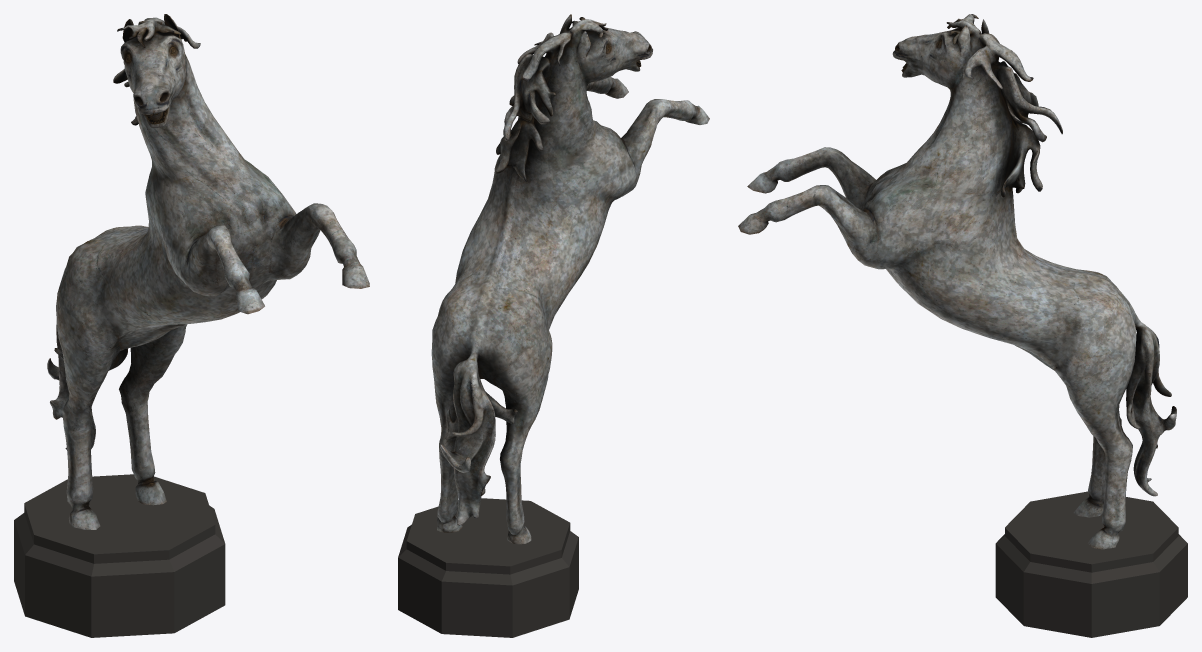
Rendered from HorseStatue.fbx.
The picture shows the model from 3 angles, left to right: view 1: azimuth 30°, elevation 25°; view 2: azimuth 150°, elevation 25°; view 3: azimuth 270°, elevation 25°; orthographic projection. The views are drawn at different scales.
Parts seen in each view (by area): view 1: HorseStatue; view 2: HorseStatue; view 3: HorseStatue.
Boxes of the visible parts, x1,y1,x2,y2 form: HorseStatue: (14, 14, 369, 637); HorseStatue: (398, 14, 709, 637); HorseStatue: (738, 14, 1187, 637).
Bounding box in the file's own units: 120 × 386 × 281.
